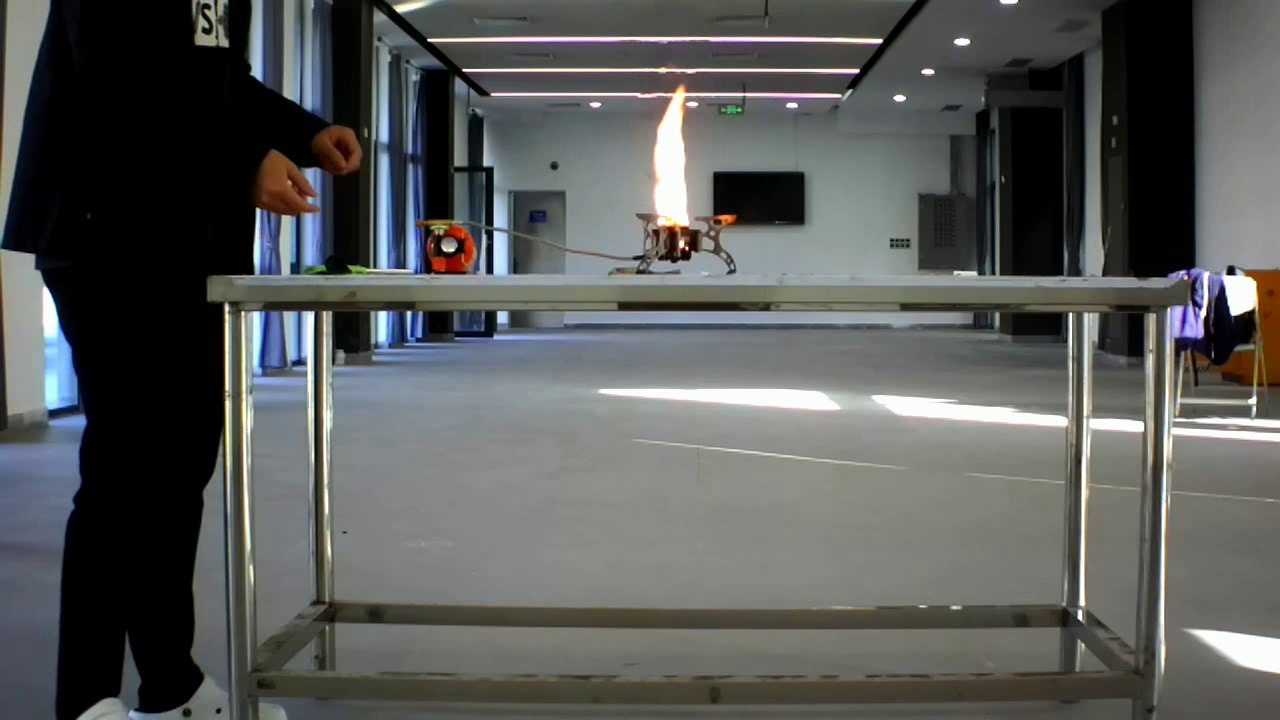Fire: (636, 75, 739, 267)
